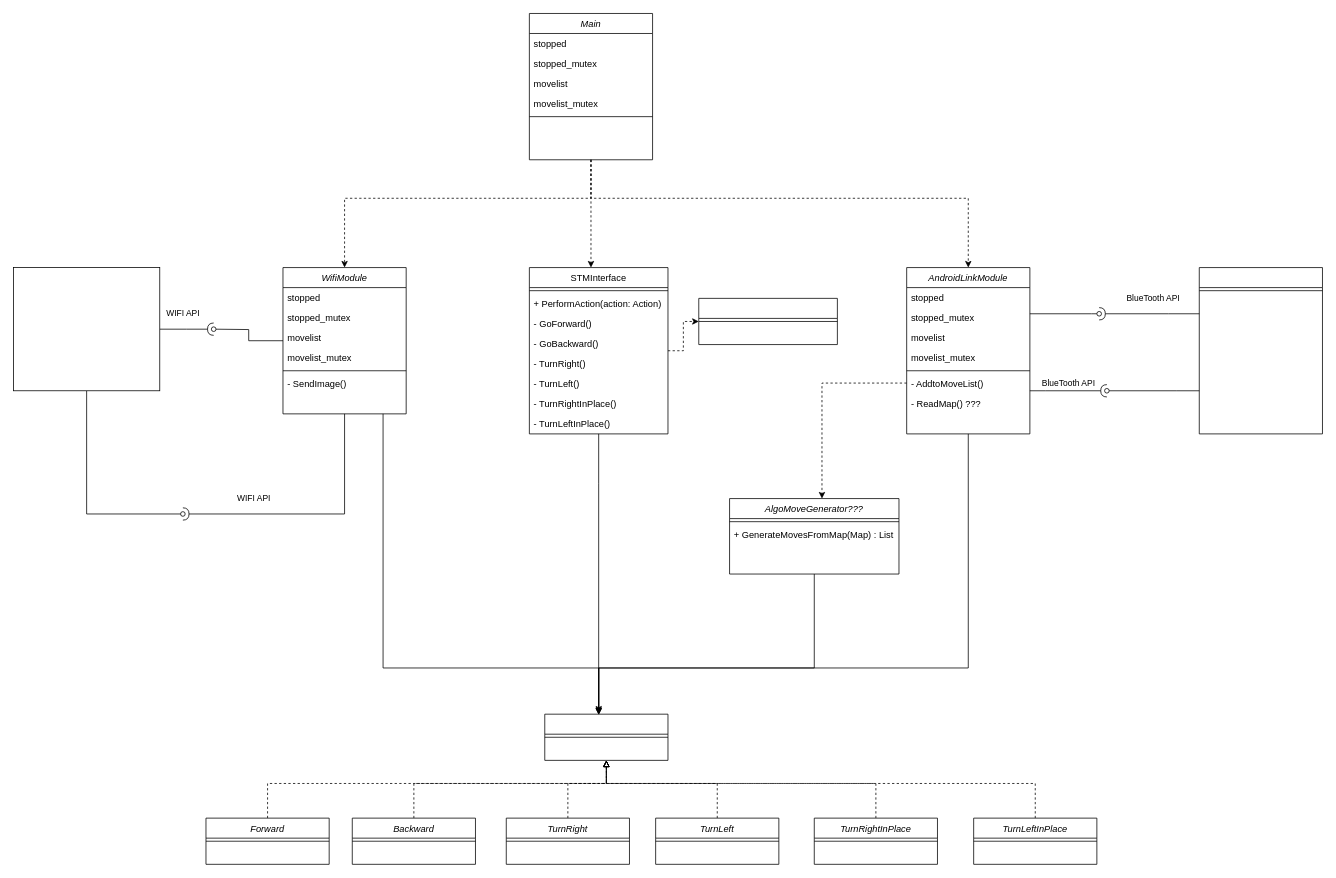
Image size: 1336x878. Some labels were removed from this diagram. The shapes that lost their labels are listed below. From the top down, each one's centre as x and y in pixels, then its label:
the point at 86,329: Laptop
the point at 767,321: STM
the point at 1260,350: Android
the point at 606,736: Action(Enum)
